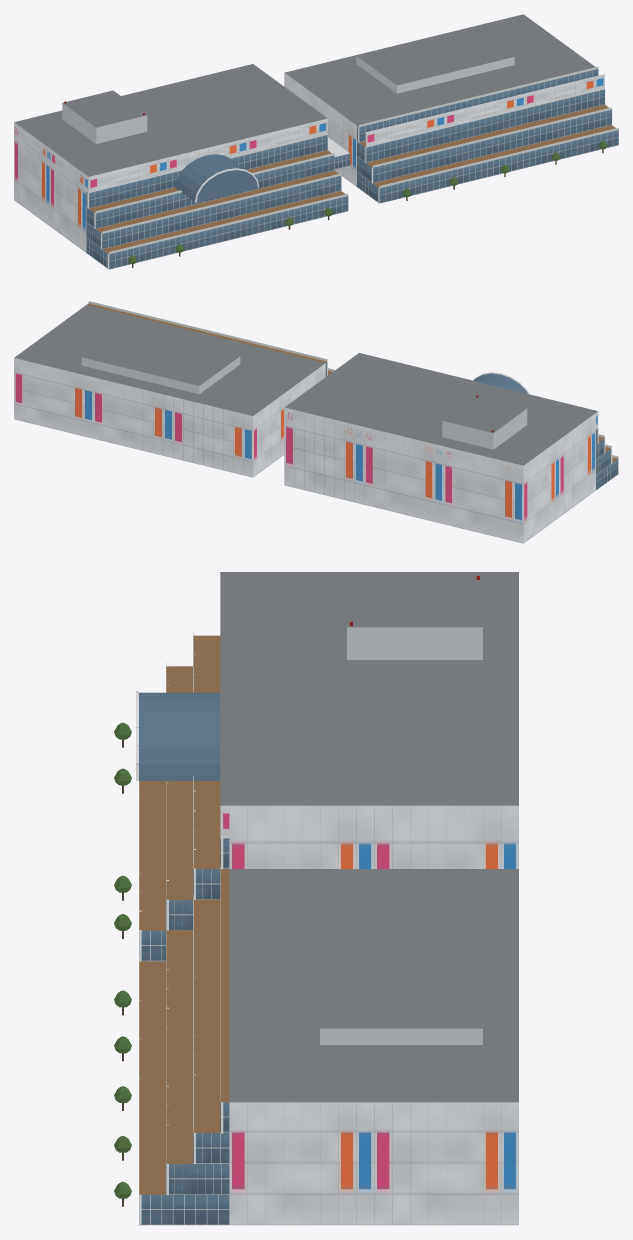
Rendered from aqua_city_odaiba.glb.
3 views of the same model, one above another, from view 1: azimuth 30°, elevation 25°; view 2: azimuth 150°, elevation 25°; view 3: azimuth 270°, elevation 25° (orthographic). The views are drawn at different scales.
Parts seen in each view (by area): view 1: aqua_city_odaiba; view 2: aqua_city_odaiba; view 3: aqua_city_odaiba.
Part boxes in pixels (<box>): aqua_city_odaiba: <box>14,14,618,269</box>; aqua_city_odaiba: <box>14,301,618,543</box>; aqua_city_odaiba: <box>114,572,518,1225</box>.
Bounding box in the file's own units: 260 × 46.68 × 89.49.
Materials: 2 (2 with a texture image).
